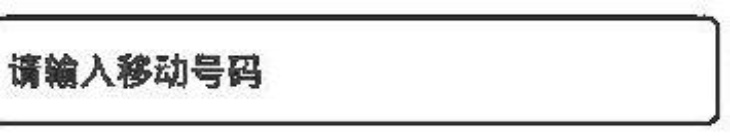EditText: (1, 1, 729, 139)
